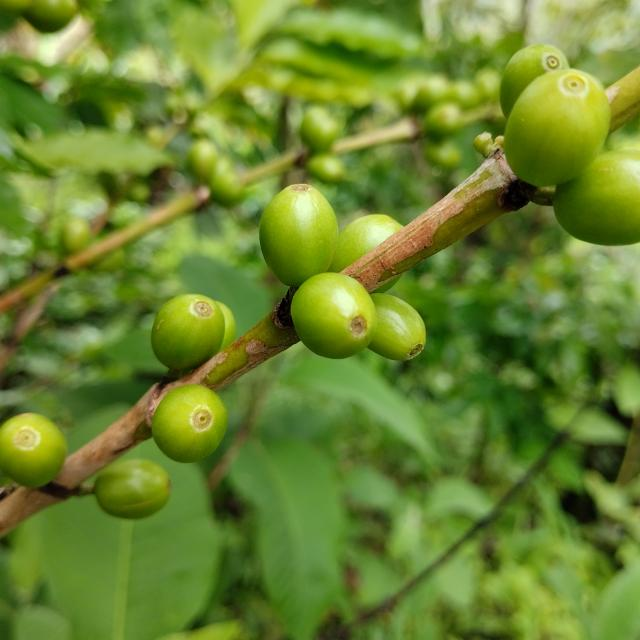green: (505, 68, 612, 186), (554, 149, 640, 245), (259, 184, 339, 287), (291, 272, 377, 359), (151, 385, 227, 463), (151, 294, 224, 371), (500, 43, 570, 117), (0, 413, 66, 488), (93, 459, 171, 520), (328, 214, 404, 272), (368, 293, 426, 361), (215, 301, 236, 351), (374, 275, 401, 293)
